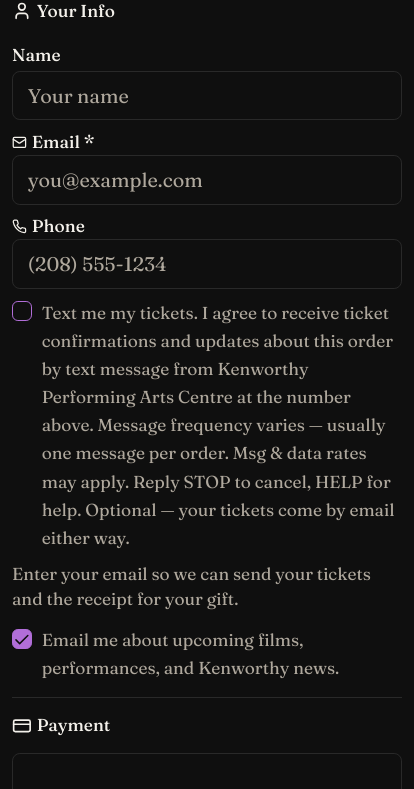
Test: GuestCheckoutForm › with a donation attached › refuses to submit without an email, whatever else the buyer gave
In the field labelled "Name": (207, 96) [12, 71, 402, 120], type "Sheri"
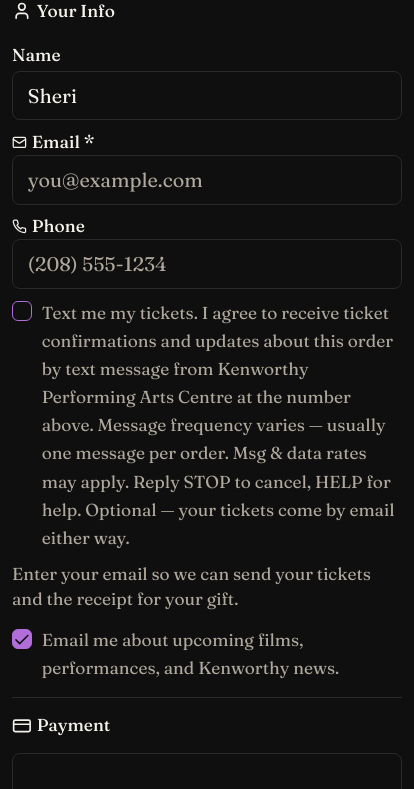
In the field labelled "Phone": (207, 264) [12, 239, 402, 289], type "(208) 892-9752"
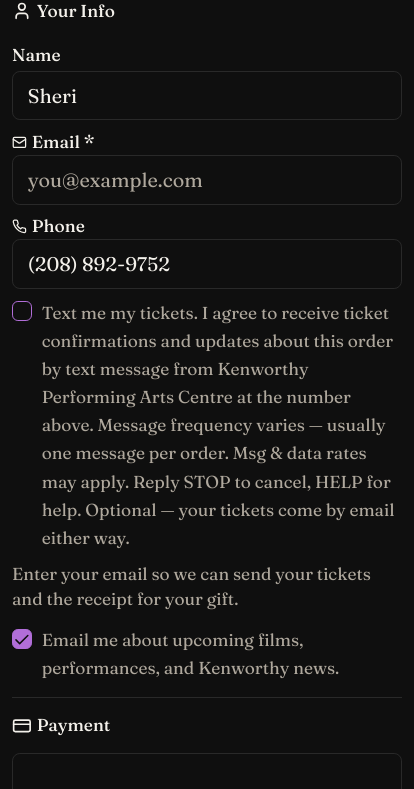
Click the checkbox named "Text me my tickets" below "Phone": (22, 311) [12, 301, 32, 321]
(page scrolled)
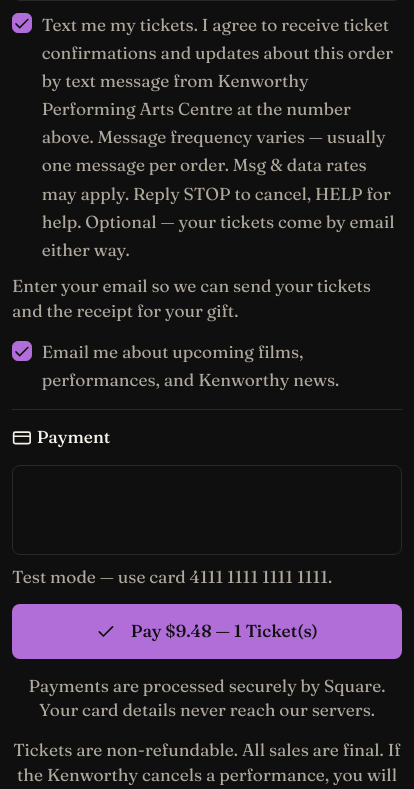
Click the button "Pay $9.48 — 1 Ticket(s)": (207, 632) [12, 604, 402, 659]
(page scrolled)
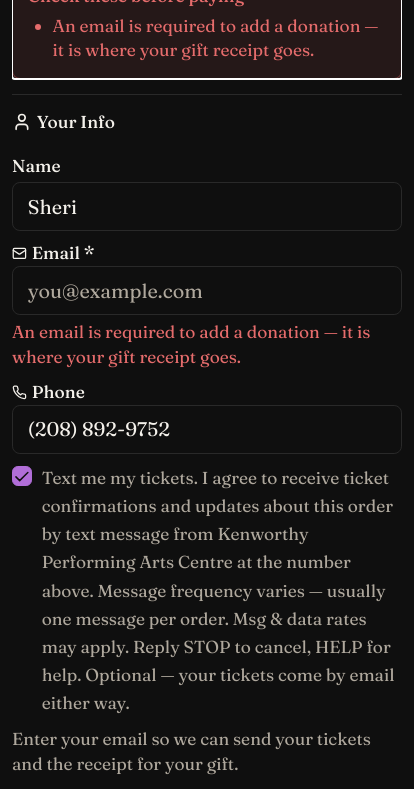
Check: the list item "required to add a donation" is shown, box [53, 14, 378, 60]
